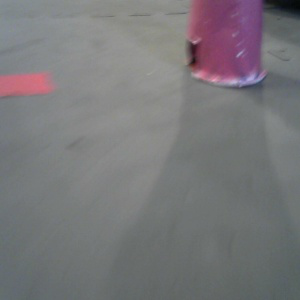right: (180, 1, 271, 91)
